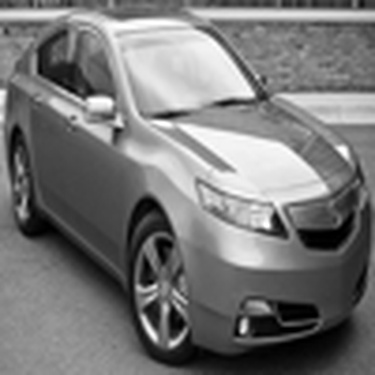car: (3, 8, 371, 369)
